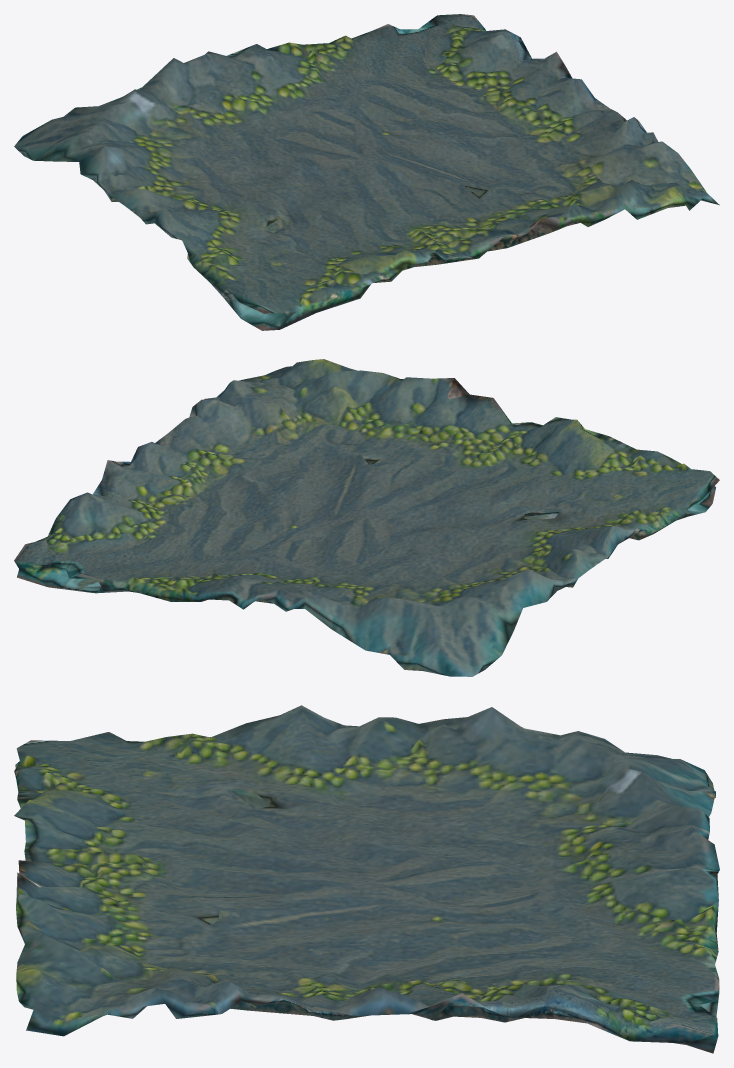
3 renders of one model, top to bottom at view 1: azimuth 30°, elevation 25°; view 2: azimuth 150°, elevation 25°; view 3: azimuth 270°, elevation 25°, orthographic. The views are drawn at different scales.
Parts seen in each view (by area): view 1: texture_mapping; view 2: texture_mapping; view 3: texture_mapping.
Boxes of the visible parts, x1=… form: texture_mapping: x1=14, y1=14, x2=719, y2=330; texture_mapping: x1=14, y1=359, x2=719, y2=676; texture_mapping: x1=14, y1=705, x2=719, y2=1053.
Size of the model in its own units: 1 by 0.1172 by 1.01.
Materials: 1 (1 with a texture image).
